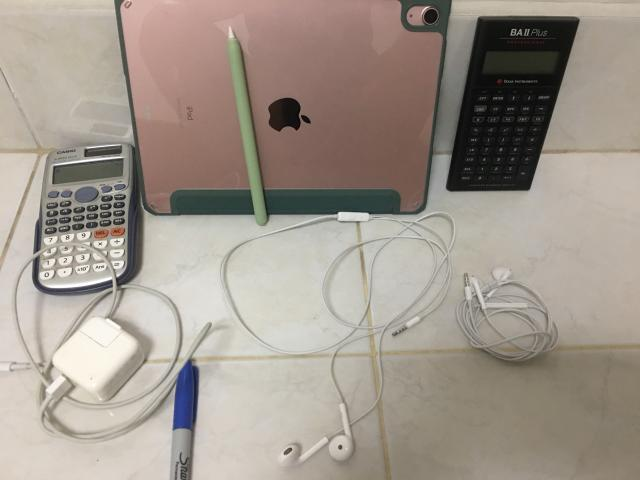Pen: (170, 361, 196, 480)
wire: (220, 211, 456, 468), (0, 241, 211, 442), (456, 266, 559, 361)
